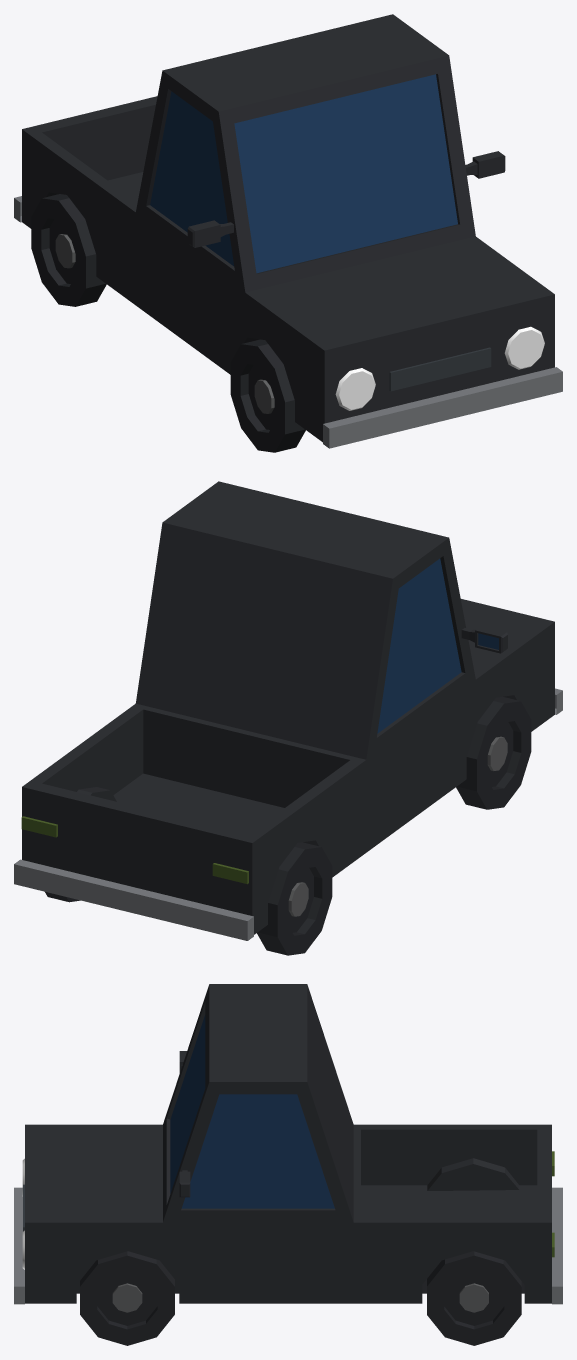
The model's file is Car_1.fbx.
3 views of the same model, one above another, from view 1: azimuth 30°, elevation 25°; view 2: azimuth 150°, elevation 25°; view 3: azimuth 270°, elevation 25° (orthographic). The views are drawn at different scales.
Visible parts, largest first — view 1: Car_1; view 2: Car_1; view 3: Car_1.
Boxes of the visible parts, box(x1,y1,x2,y2) form: Car_1: box(14, 14, 562, 452); Car_1: box(14, 481, 562, 955); Car_1: box(14, 984, 562, 1345).
Bounding box in the file's own units: 201 × 186 × 352.
